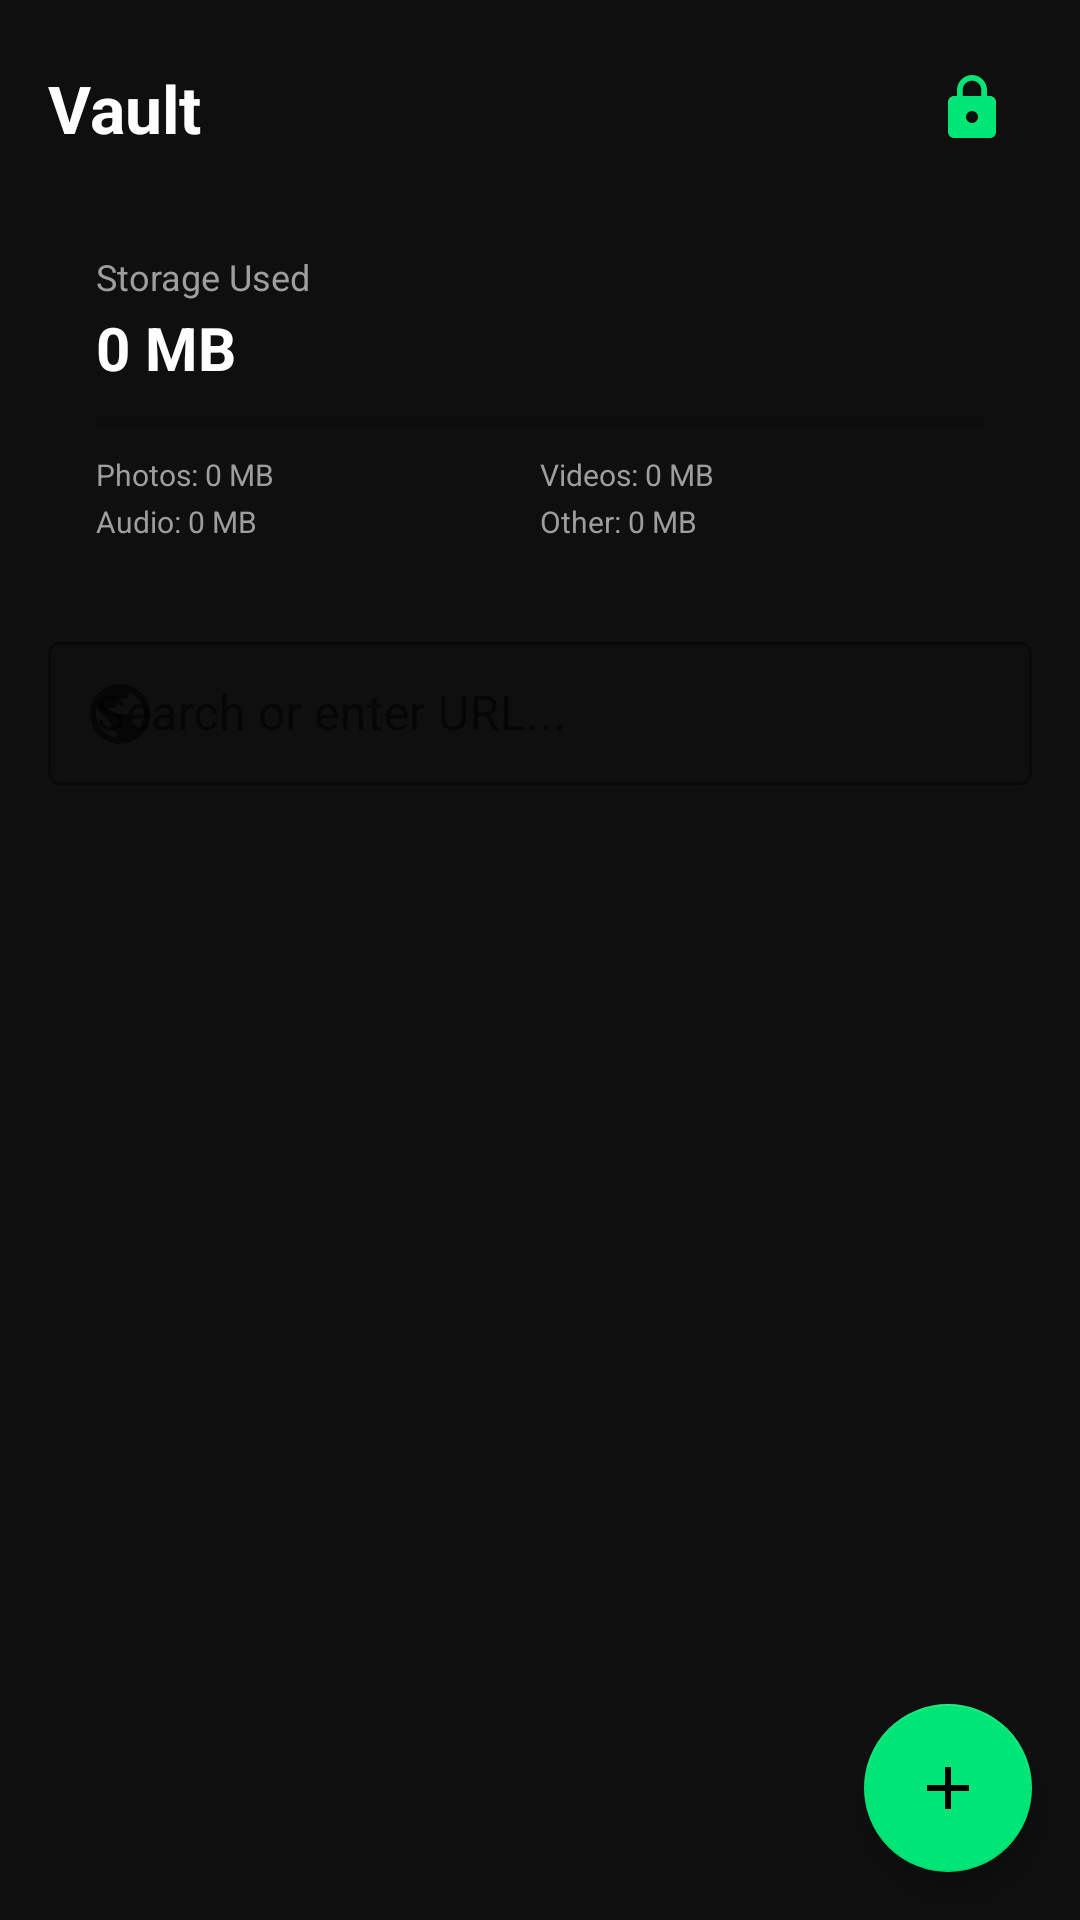

Screen size 1080px x 1920px. Icon name, then its box in pixels as detection(x1, y1, x2, y2):
Add: detection(864, 1704, 1032, 1872)
Lock: detection(948, 75, 996, 138)
